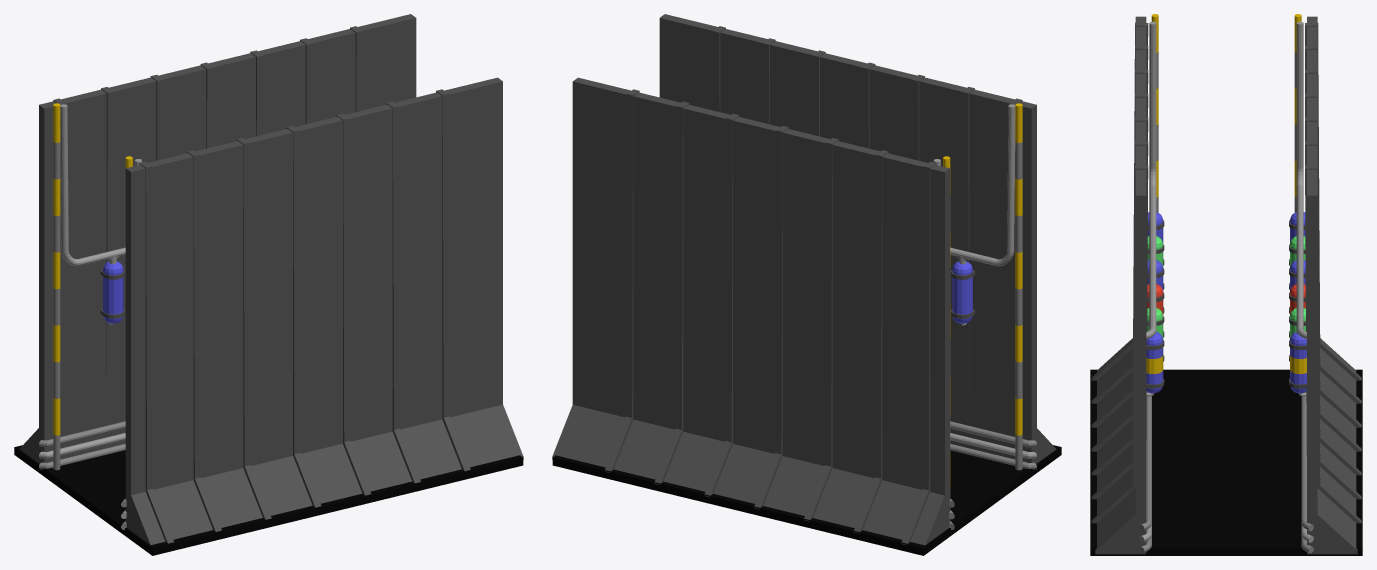
Rendered from ConnectionSection3.fbx.
The picture shows the model from 3 angles, left to right: view 1: azimuth 30°, elevation 25°; view 2: azimuth 150°, elevation 25°; view 3: azimuth 270°, elevation 25°; orthographic projection.
Visible parts, largest first — view 1: ConnectionSection3; view 2: ConnectionSection3; view 3: ConnectionSection3.
Part boxes in pixels (bbox=[...]): ConnectionSection3: bbox=[14, 14, 523, 555]; ConnectionSection3: bbox=[552, 14, 1061, 555]; ConnectionSection3: bbox=[1090, 14, 1362, 555].
Bounding box in the file's own units: 12315 × 11417 × 7694.
